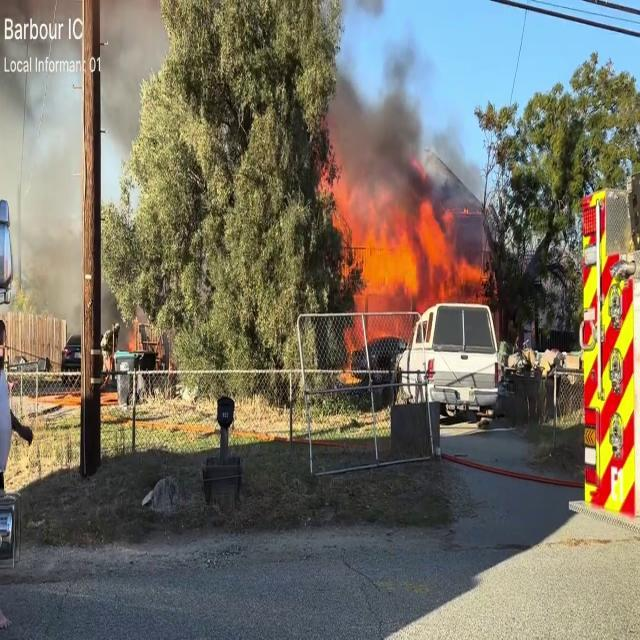Fire: (320, 185, 484, 308)
Smoke: (0, 0, 80, 308), (326, 76, 464, 210), (102, 0, 170, 154)
